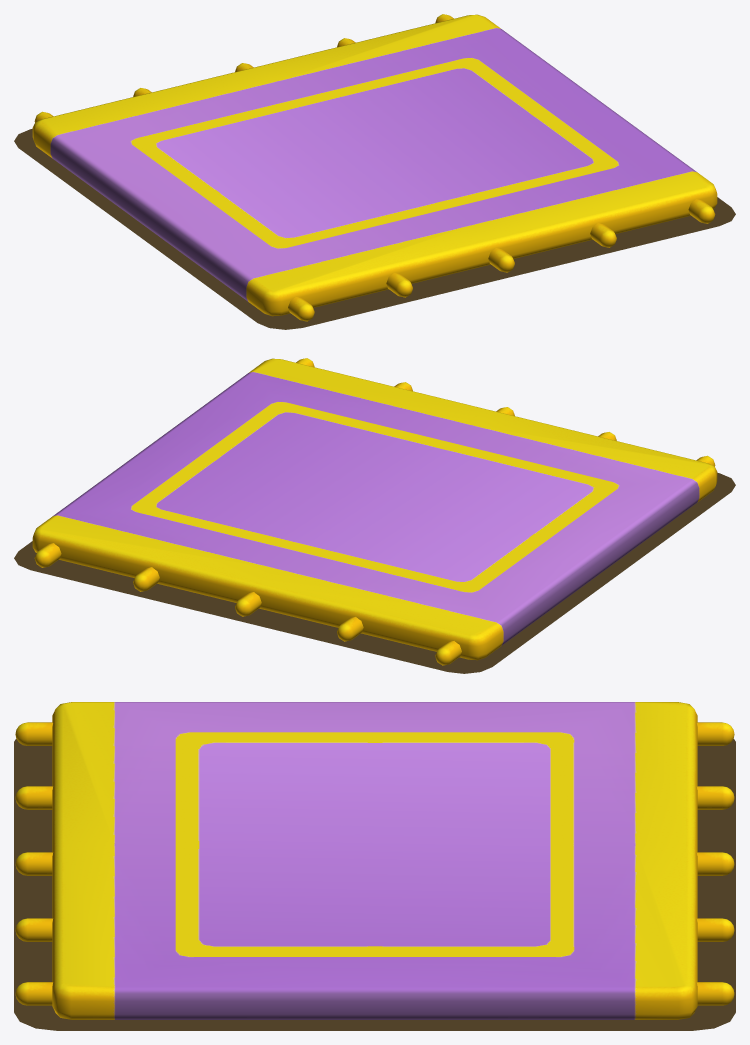
File: E_Carpet.fbx
3 views of the same model, one above another, from view 1: azimuth 30°, elevation 25°; view 2: azimuth 150°, elevation 25°; view 3: azimuth 270°, elevation 25° (orthographic). The views are drawn at different scales.
Visible parts, largest first — view 1: pSphere51, pPlane38; view 2: pSphere51, pPlane38; view 3: pSphere51, pPlane38.
Part boxes in pixels (x1,y1,x2,y2): pSphere51: (32,14,717,321); pPlane38: (14,128,735,329); pSphere51: (32,358,717,665); pPlane38: (14,472,735,673); pSphere51: (15,702,734,1019); pPlane38: (14,739,735,1030).
Size of the model in its own units: 189 by 9.34 by 188.
Materials: 2 (1 with a texture image).
